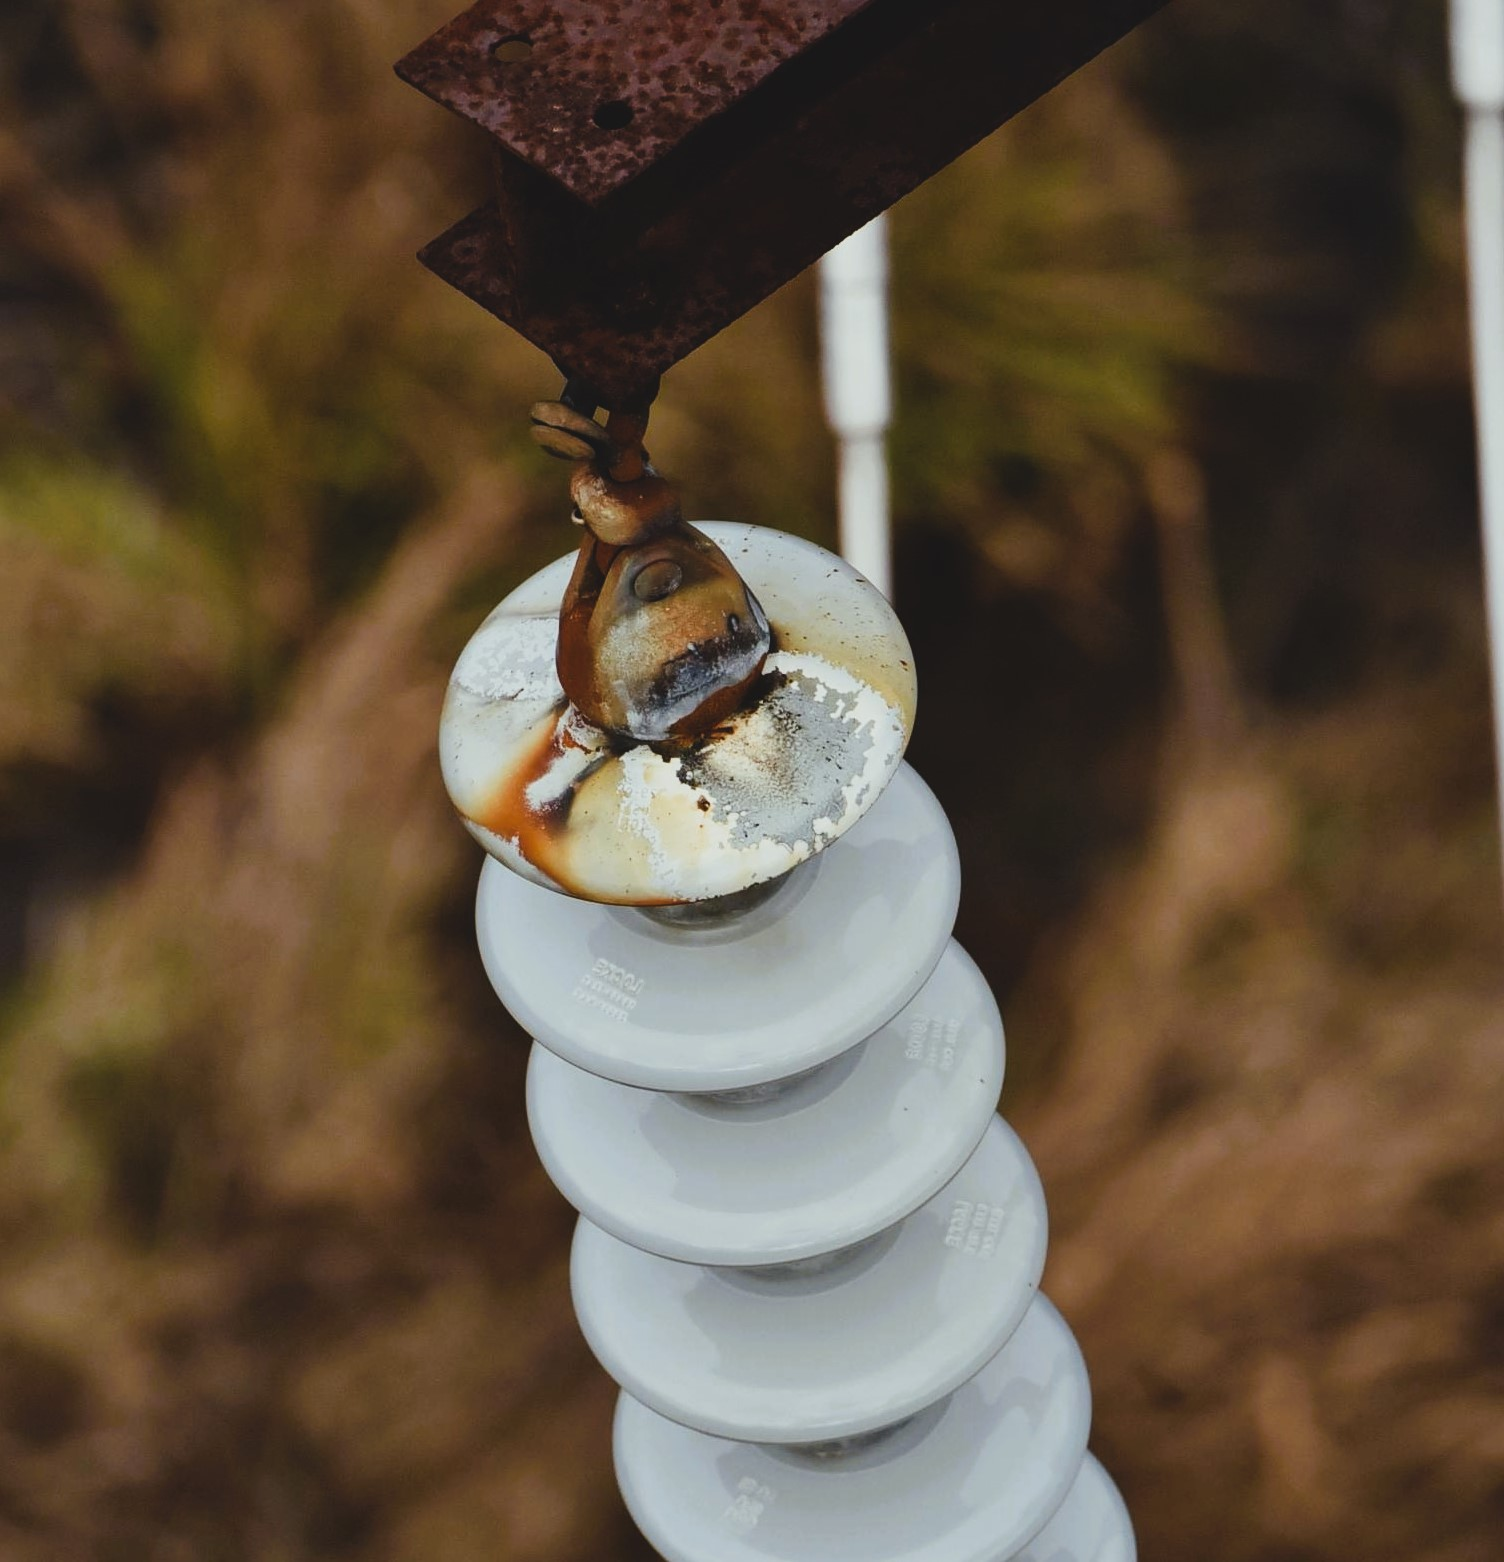Insulator flashover: (421, 501, 926, 915)
